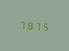eight: (26, 19, 33, 30)
five: (42, 20, 49, 32)
seven: (18, 18, 25, 30), (34, 20, 41, 31)
